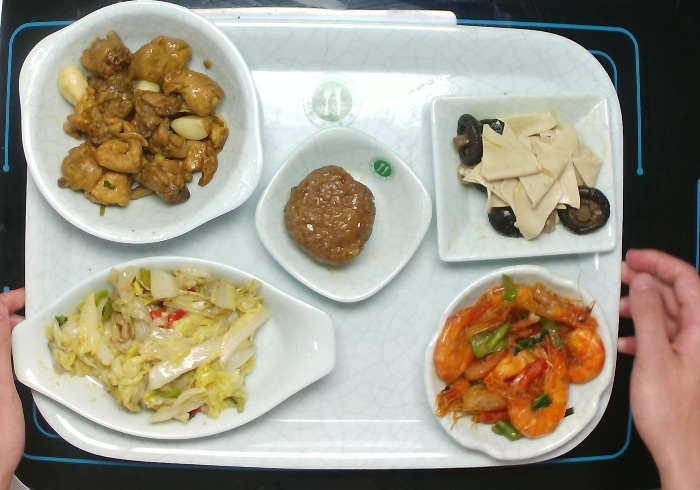JYsf-Ao_Yuan_Wan: (421, 261, 617, 463)
JYsf-Shuang_Er_Wan: (18, 1, 266, 245)
JYsf-Si_Fang_Die: (252, 123, 435, 305)
JYsf-Yu_Pan: (7, 251, 338, 443)
WCQzf-Ru_Ci_Si_Fang_Die: (428, 87, 620, 264)
